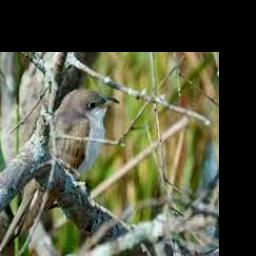Cuckoo: (3, 89, 120, 243)
